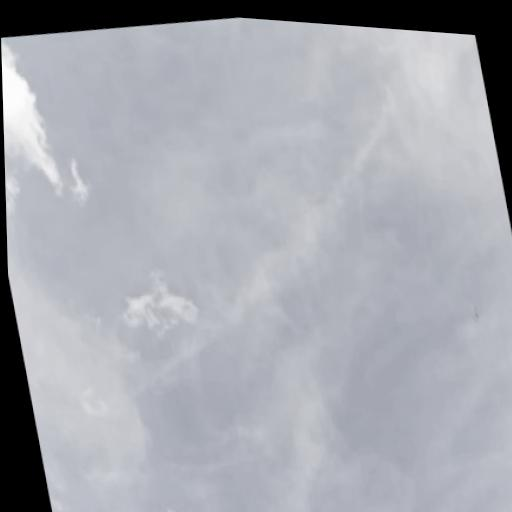drones: (465, 301, 486, 328)
